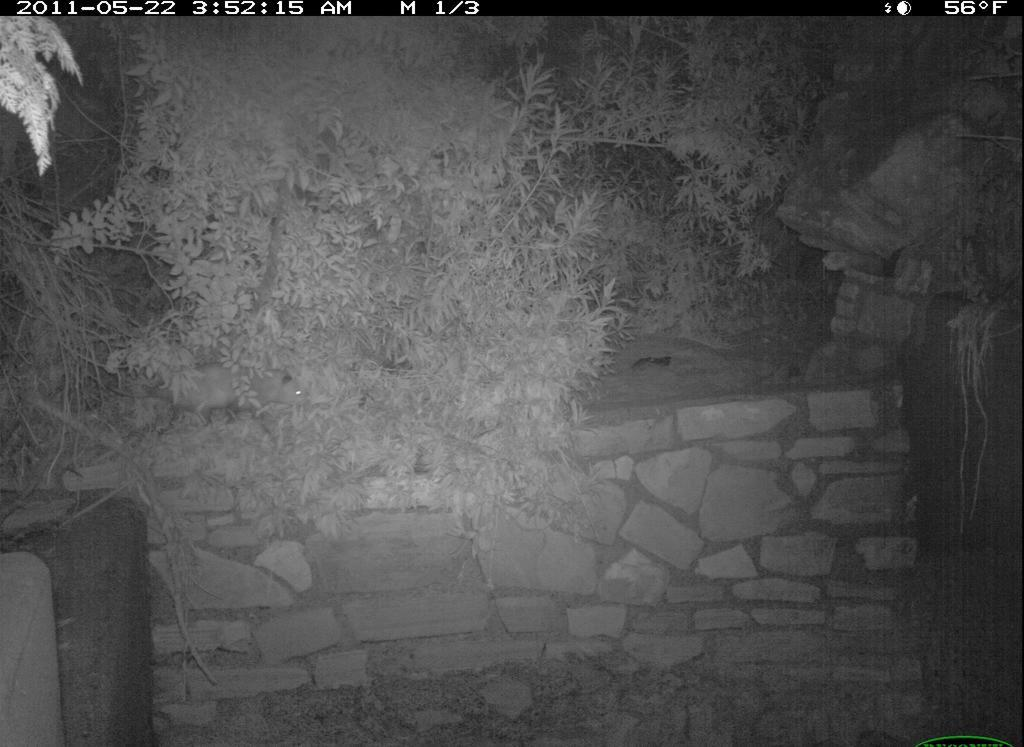opossum: (127, 351, 310, 432)
